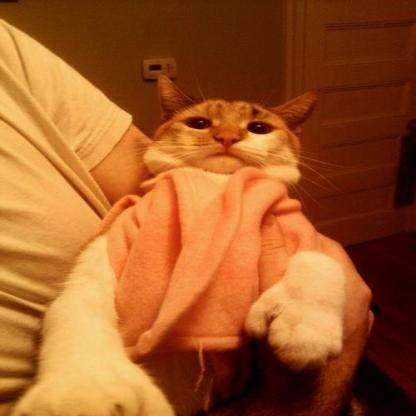Target: (14, 67, 358, 416)
